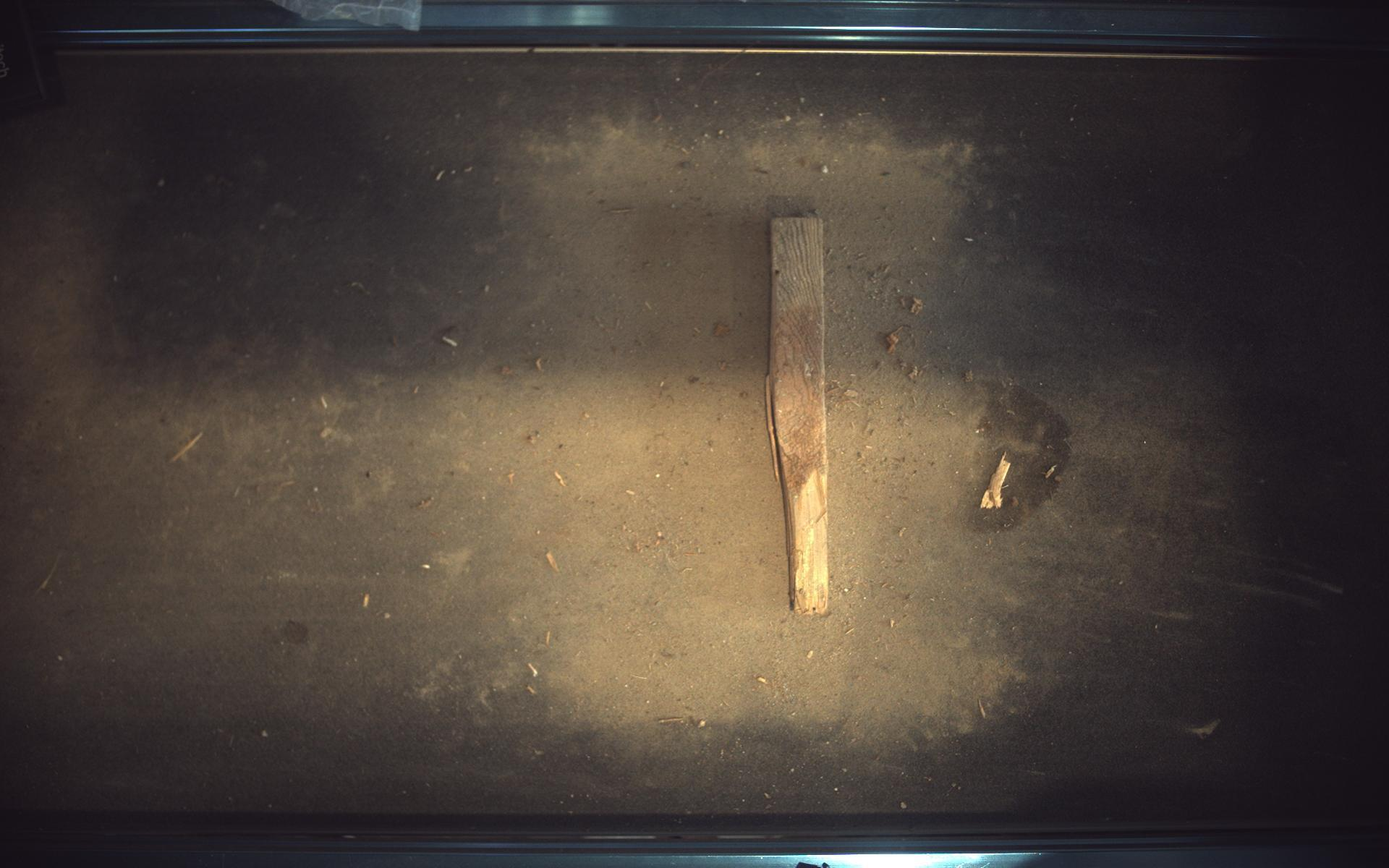wood: (768, 216, 830, 616)
